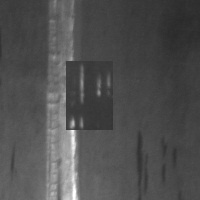inclusion: (133, 129, 150, 193), (159, 134, 178, 184), (7, 145, 20, 179)
scratches: (42, 1, 76, 199), (66, 61, 113, 130)
